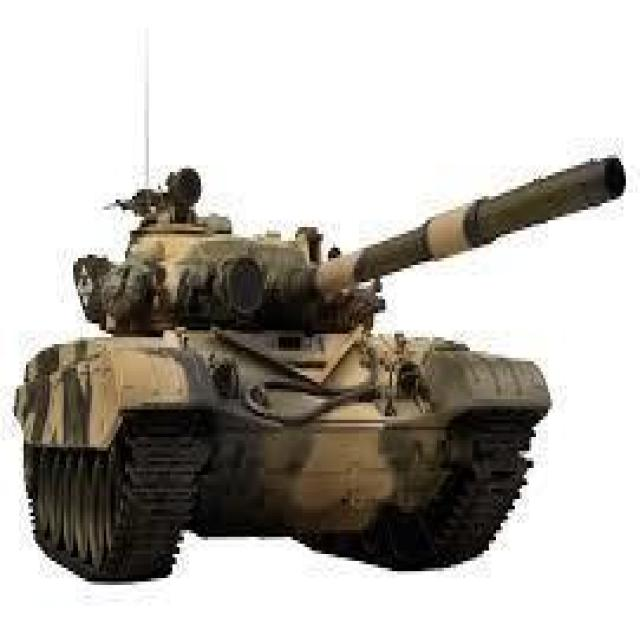Tanks: (21, 36, 562, 618)
